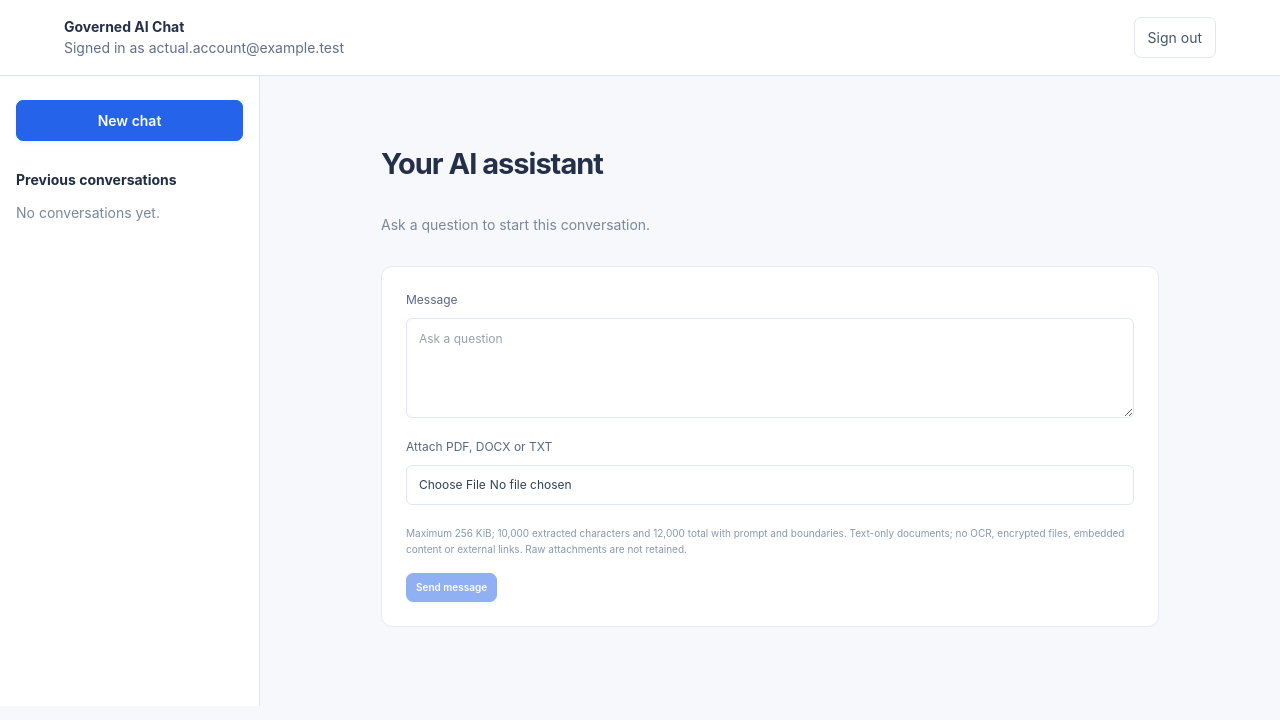
Test: shows a simple HUMAN_REVIEW conversation without technical cards or IDs
This screenshot has width=1280, height=720.
(page scrolled)
Expected: the text "No conversations yet." is shown, [16, 204, 160, 221]
Type "Sensitive test prompt" into the text box labelled "Message" at (770, 368), box [406, 318, 1134, 418]
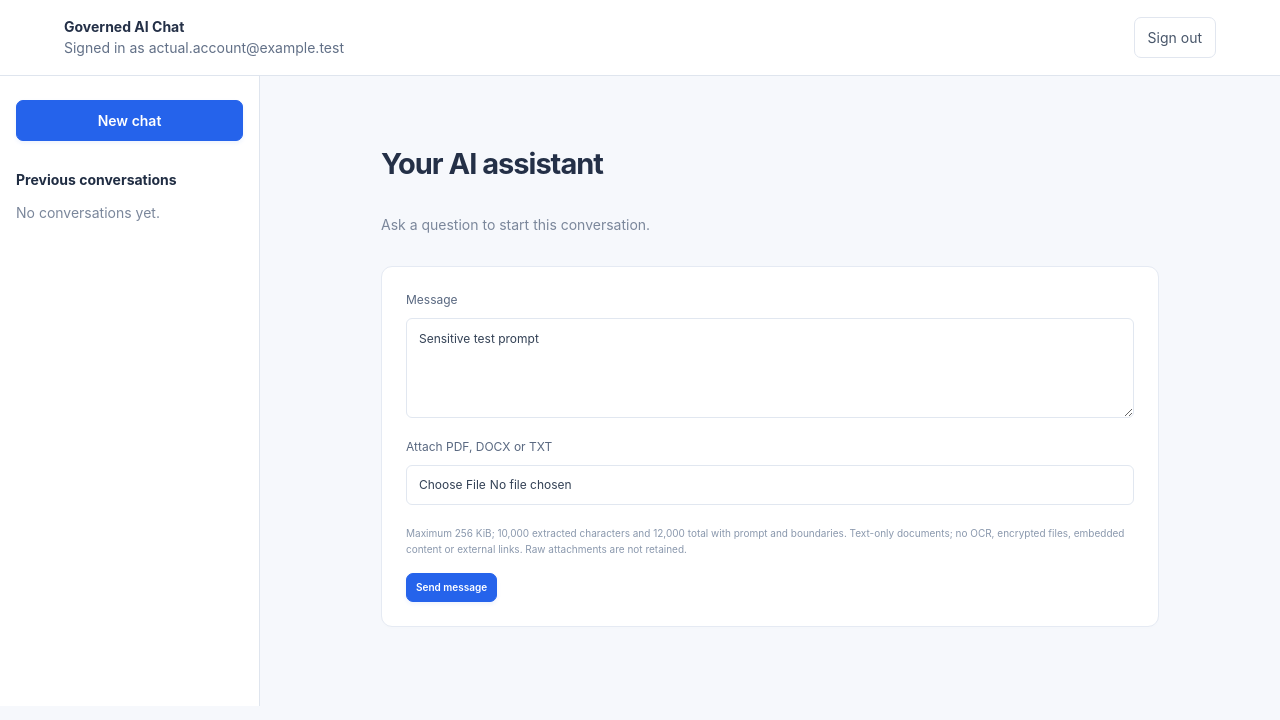
Click the button "Send message" at (452, 588), box [406, 573, 497, 602]
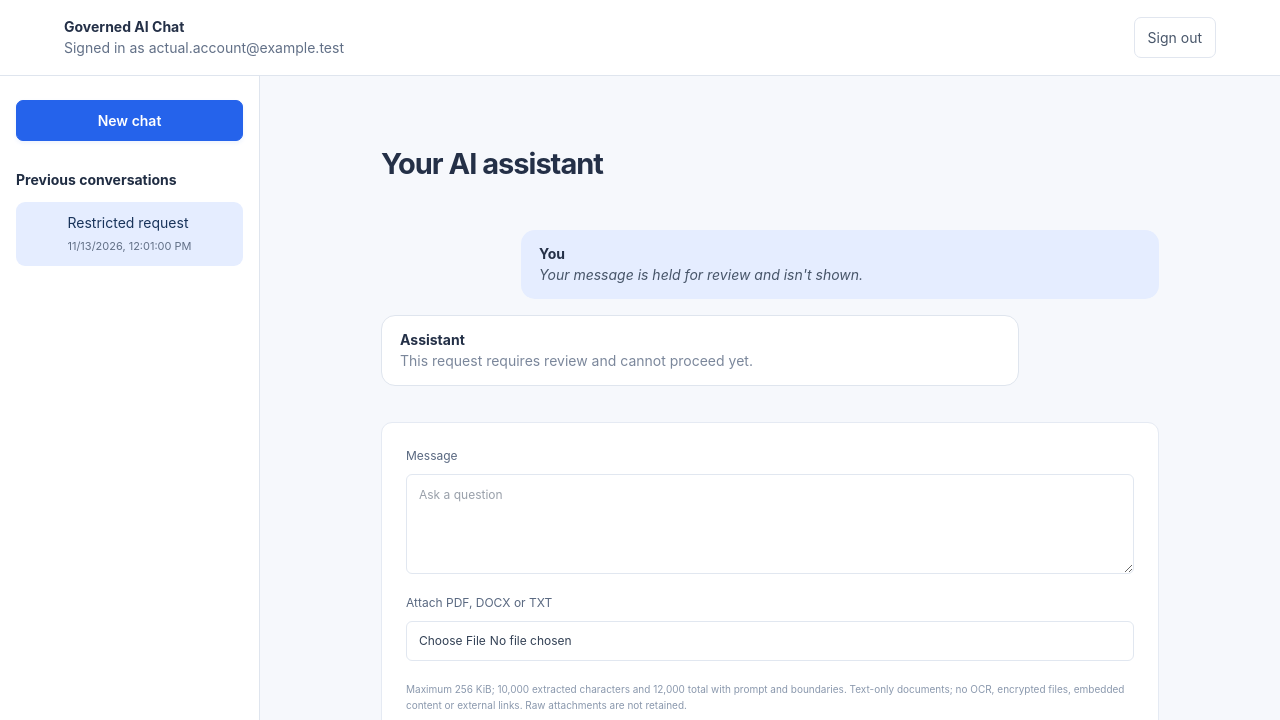
Expected: the text "Sensitive test prompt" is not shown
Expected: the text "This request requires review and cannot proceed yet." is shown, [400, 352, 753, 369]
